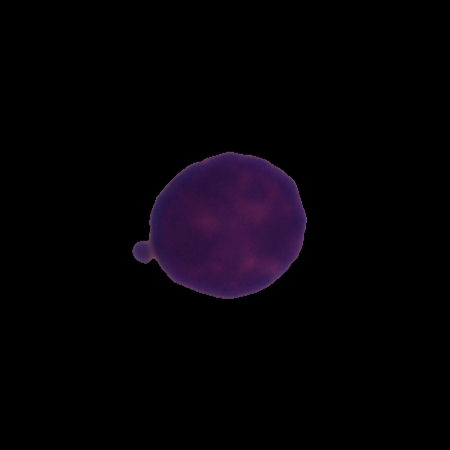HEM: (130, 148, 310, 302)
